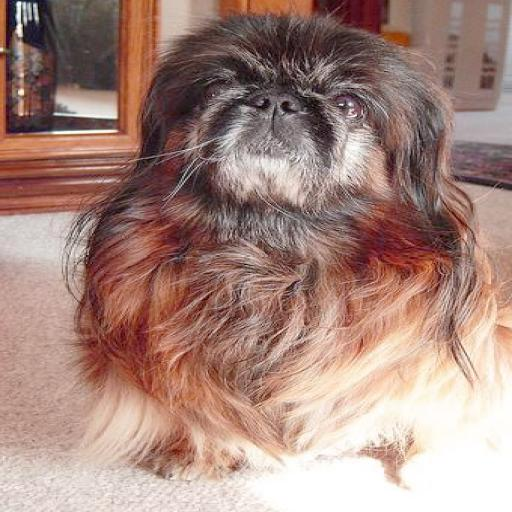dog_face: (128, 12, 456, 222)
